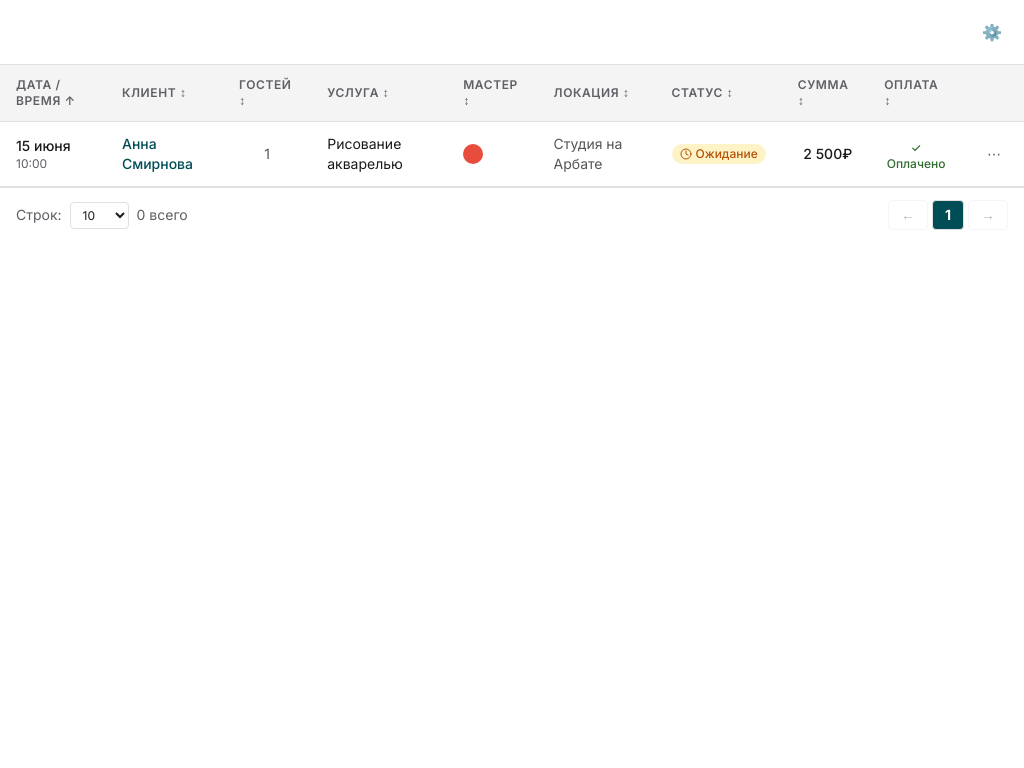
Test: RecordsTable › 409 dry-run conflict opens DeleteDialog labelled from row.activity_start
What coordinates should you click on to do the following:
click the button named "Действия"
I would click on:
 (994, 154)
Its box is [980,140,1008,168].
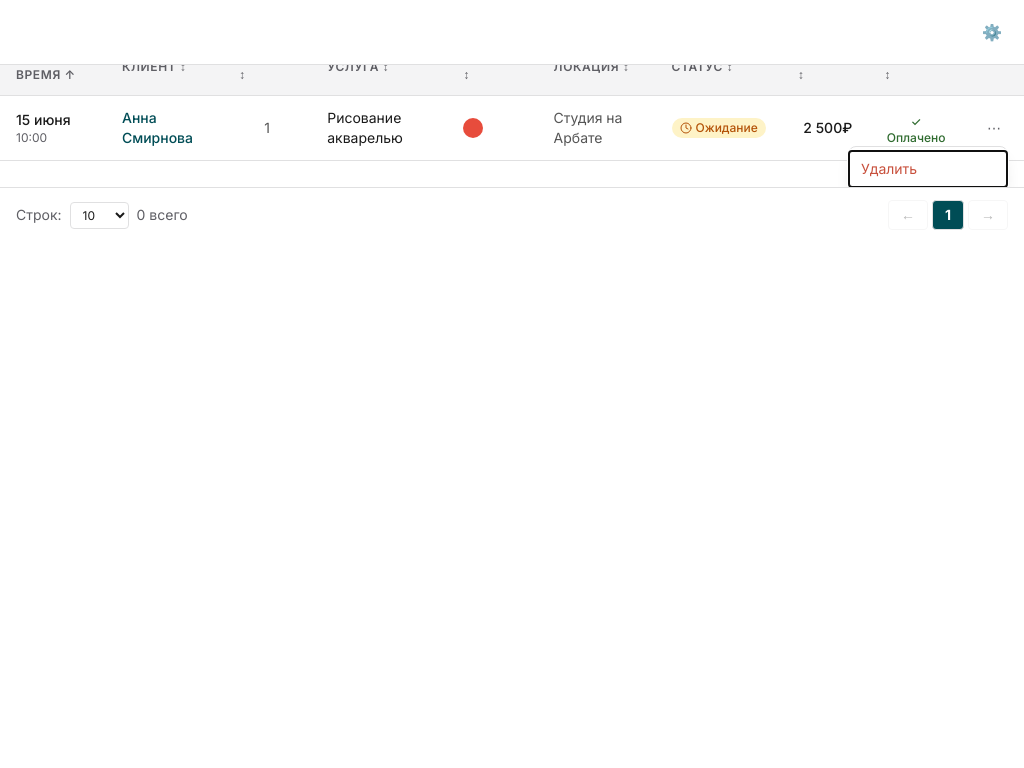
What coordinates should you click on to do the following:
click the menu item "Удалить"
I would click on:
 (928, 169)
Its box is [849,151,1007,187].
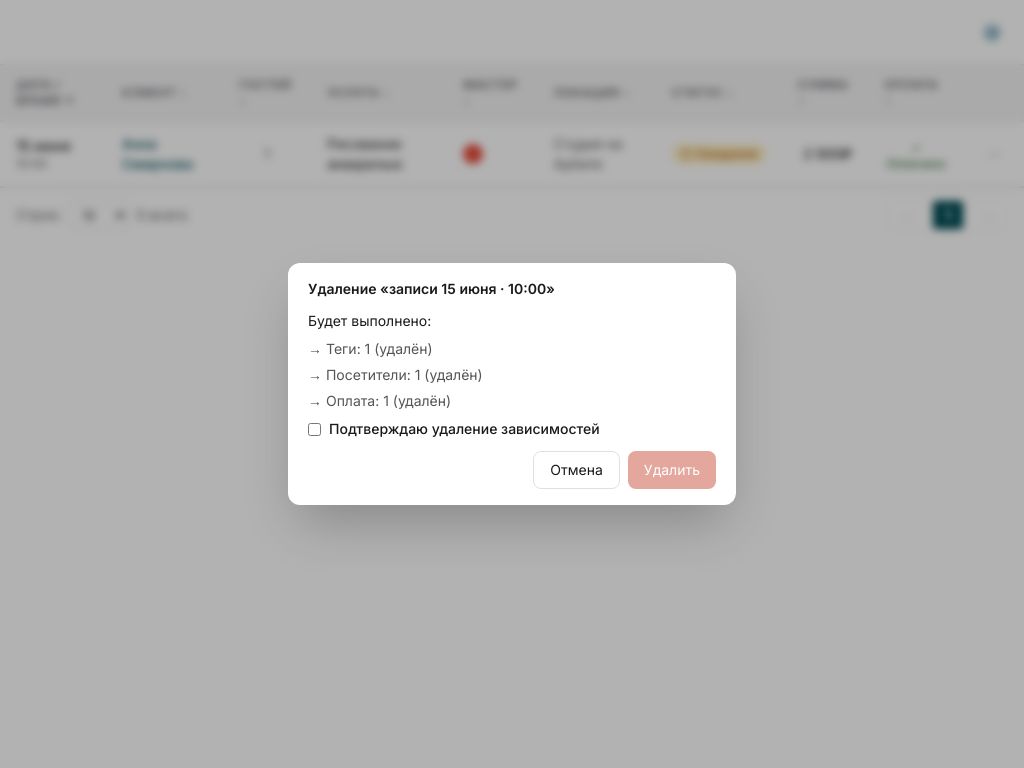
Expected: the element with test id "delete-dialog" is shown, [288,263,736,505]
Expected: the heading with test id "delete-dialog-title" shows "записи 15 июня · 10:00", [308,280,555,297]
Expected: the list item with test id "dep-visits" is shown, [308,366,483,383]
